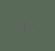two: (27, 20, 34, 31)
zero: (19, 19, 26, 30)
